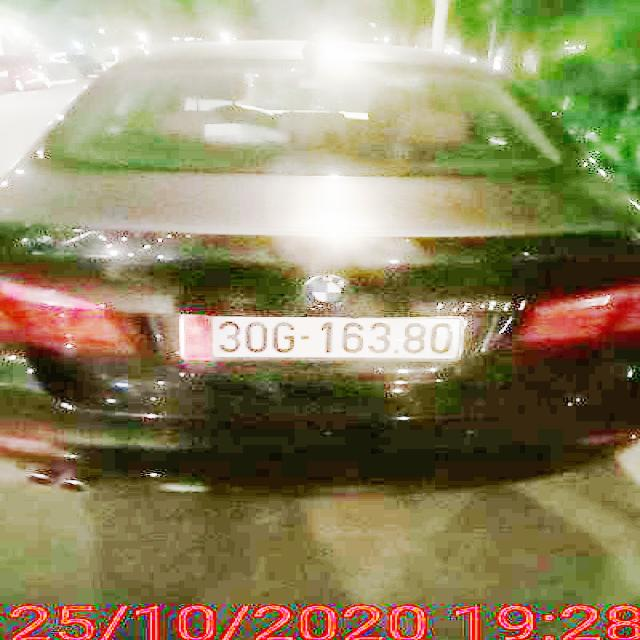license_plate: (185, 318, 465, 361)
